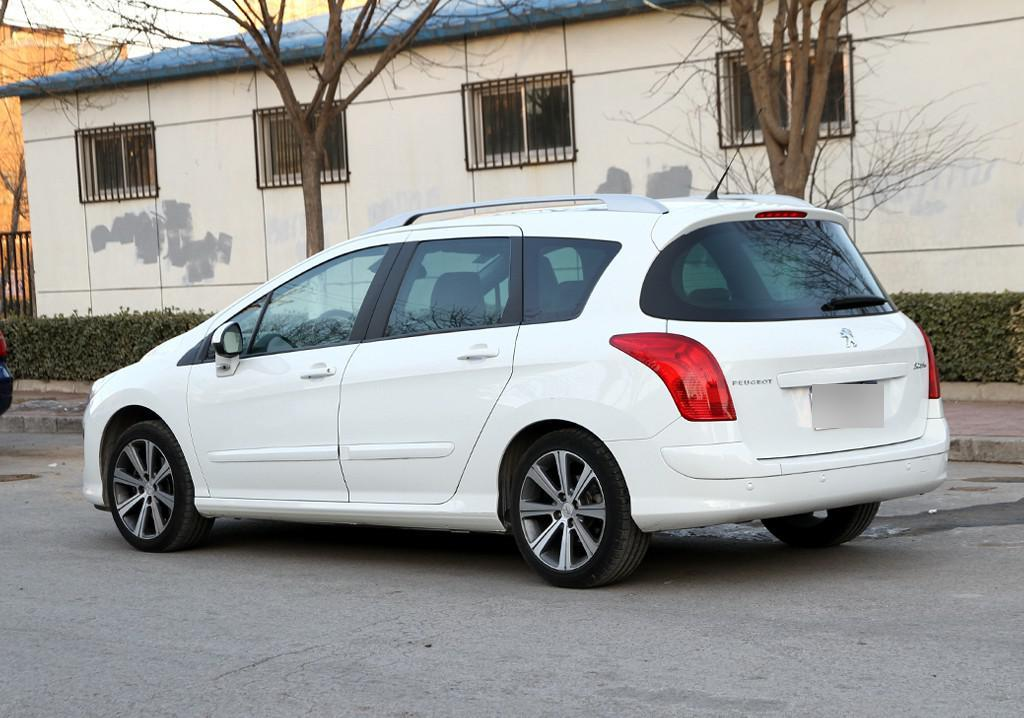Wagon: (81, 193, 949, 586)
